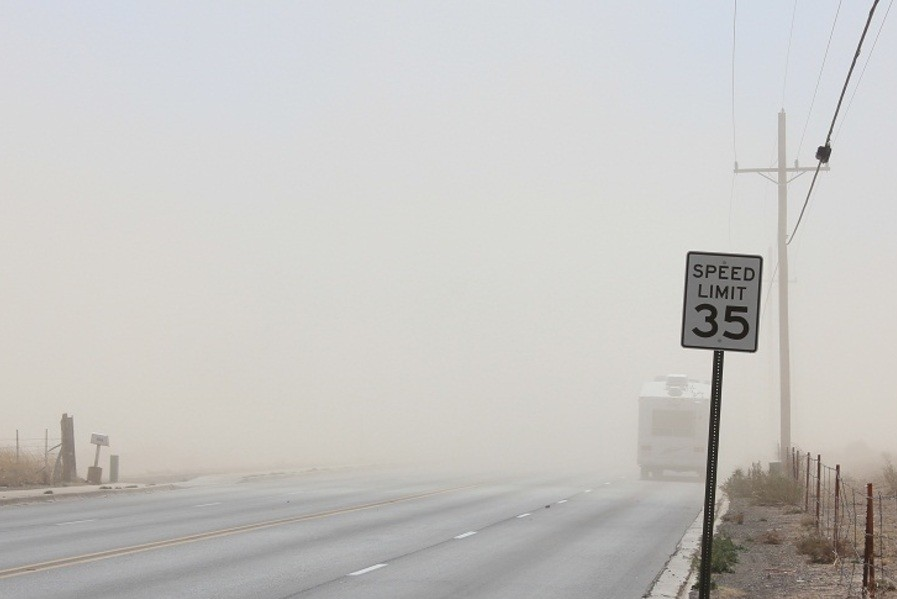car: (638, 372, 713, 477)
